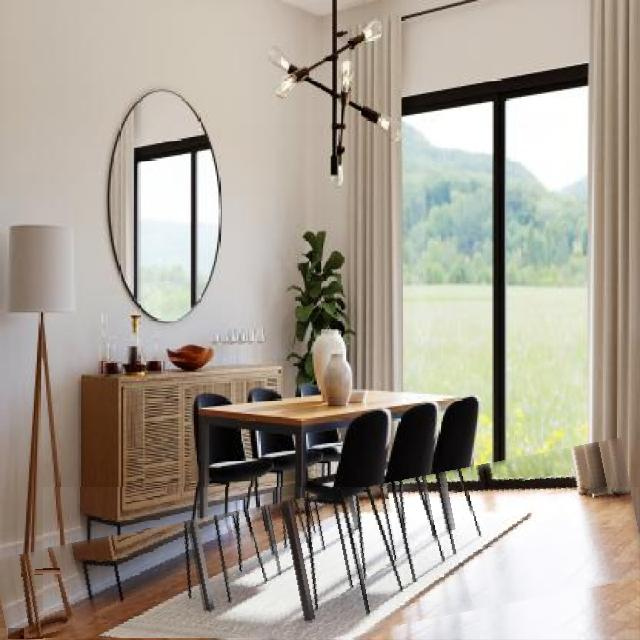floor: (46, 488, 639, 639), (8, 628, 24, 640), (35, 571, 60, 574), (22, 573, 27, 577)
